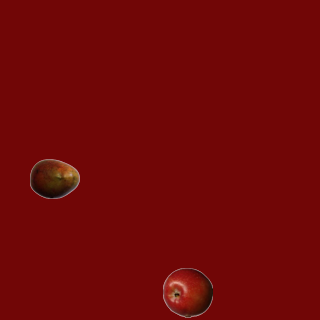Apple Braeburn: (162, 267, 212, 317)
Mango Red: (29, 153, 79, 203)
